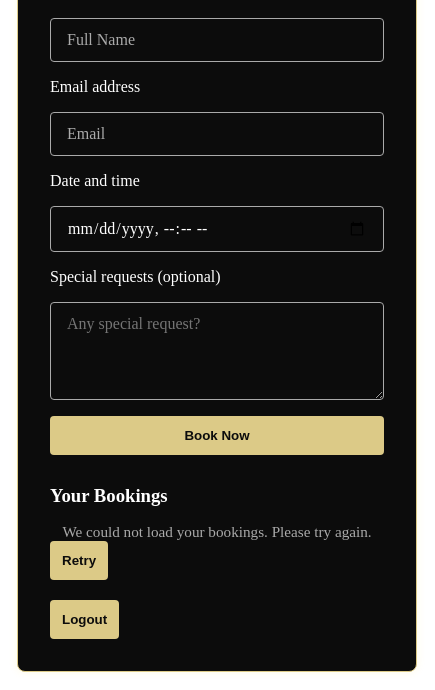
Test: shows an error and allows a successful retry
The width and height of the screenshot is (435, 690).
(page scrolled)
Check: the message shows "could not load", box top-left (62, 523), bottom-right (372, 540)
Click the button "Retry" at (79, 560), box top-left (50, 541), bottom-right (108, 580)
(page scrolled)
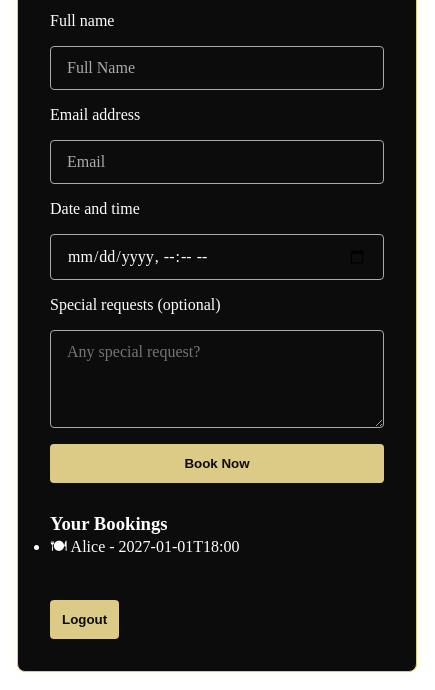
Check: the list item "🍽 Alice - 2027-01-01T18:00" is shown, box top-left (50, 538), bottom-right (240, 555)
Check: the message "We could not load your bookings. Please try again. Retry" is gone
